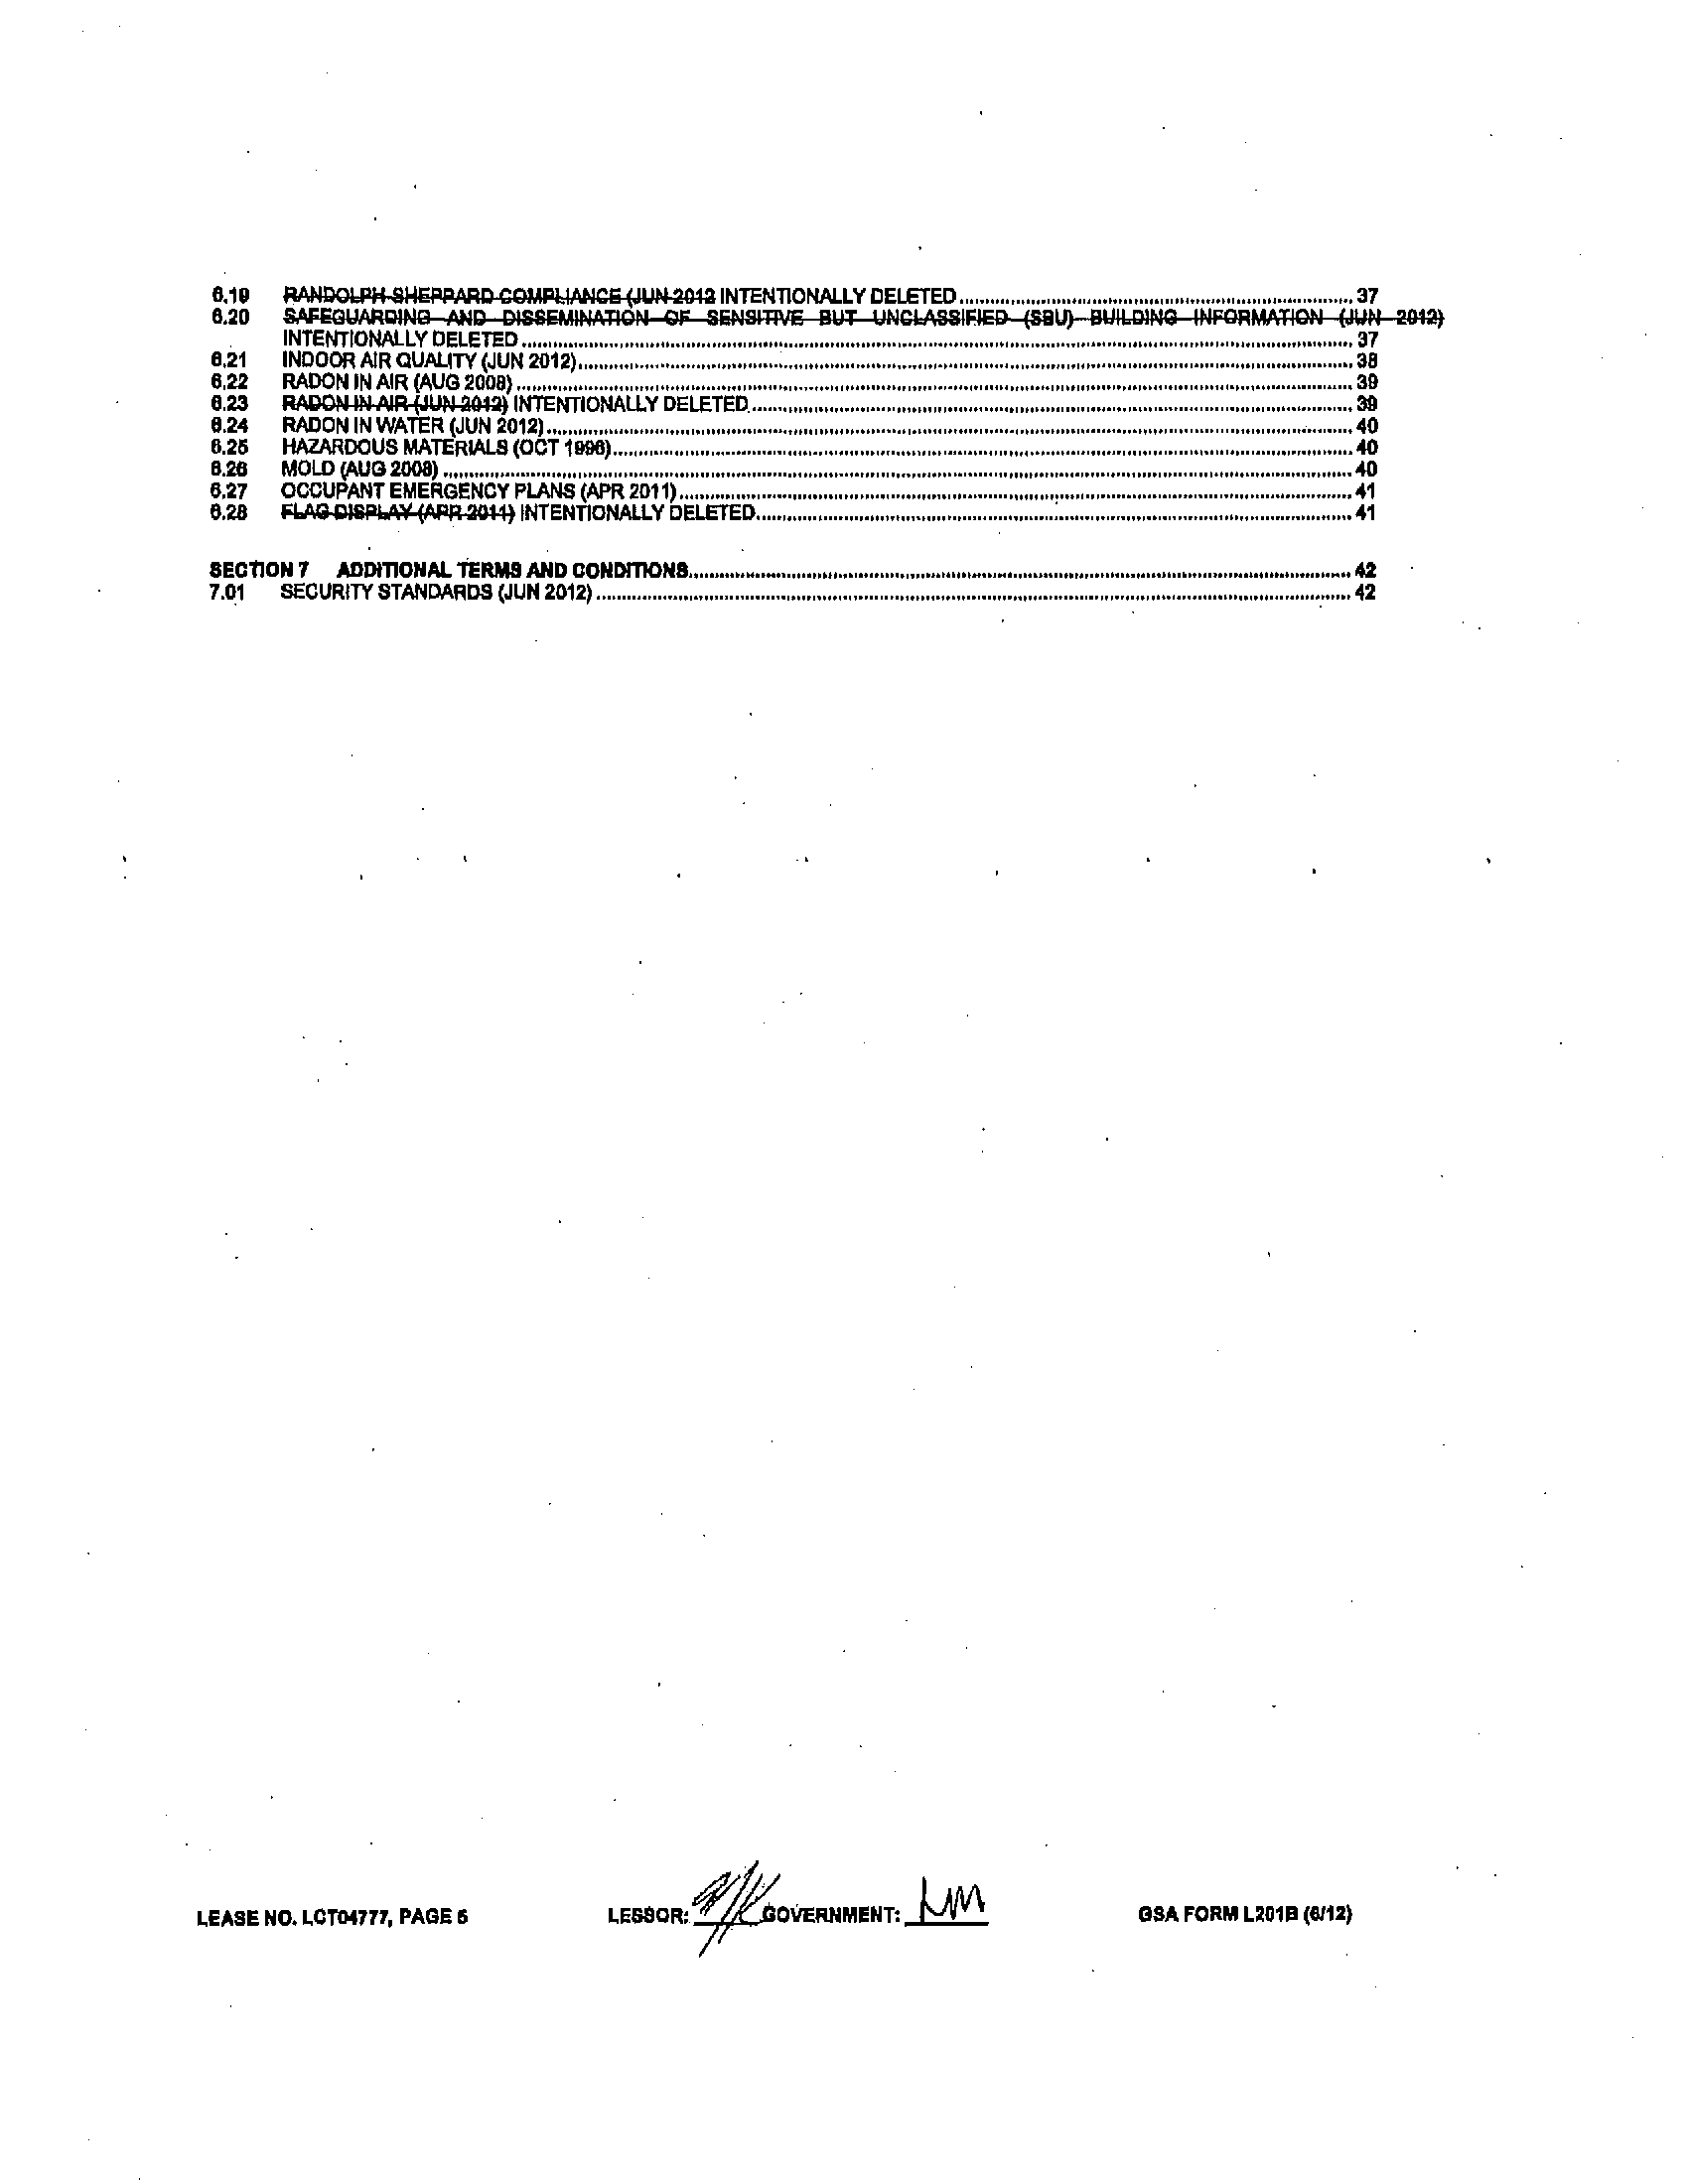handwritten: (686, 1847, 780, 1943), (903, 1868, 993, 1923)
